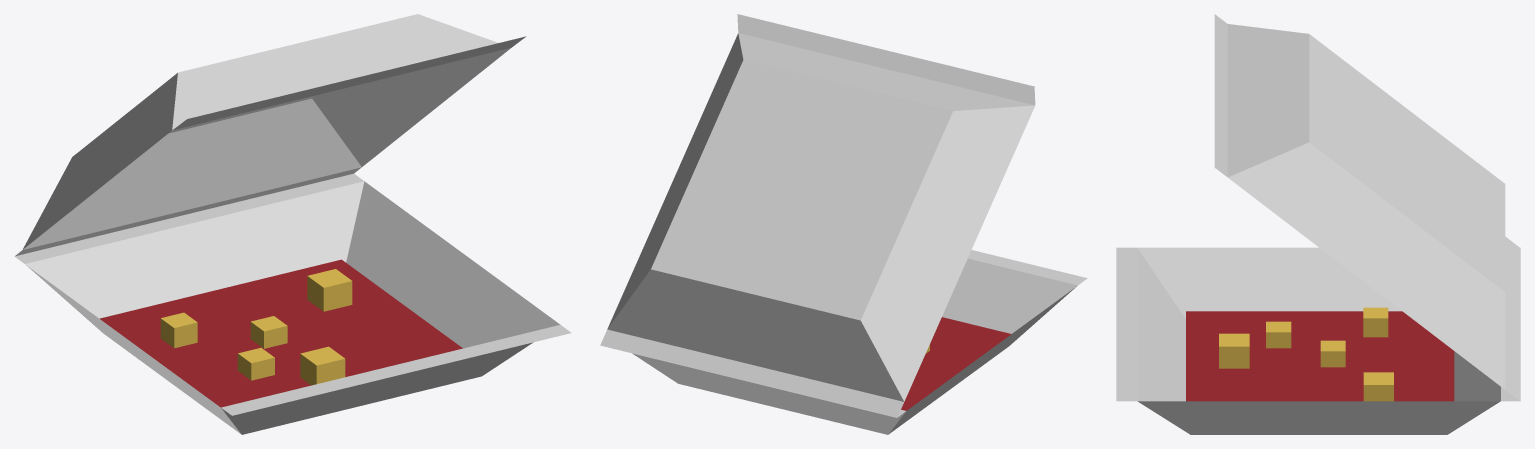
File: leftovers.fbx
The picture shows the model from 3 angles, left to right: view 1: azimuth 30°, elevation 25°; view 2: azimuth 150°, elevation 25°; view 3: azimuth 270°, elevation 25°; orthographic projection. The views are drawn at different scales.
Visible parts, largest first — view 1: Plane, Plane.001, Cube.003, Cube.004, Cube.001, Cube.002, Cube; view 2: Plane.001, Plane; view 3: Plane.001, Plane, Cube.004, Cube.003, Cube.001, Cube, Cube.002.
Boxes of the visible parts, bbox=[...] form: Plane: bbox=[14, 173, 571, 434]; Plane.001: bbox=[15, 14, 526, 256]; Cube.003: bbox=[307, 269, 352, 311]; Cube.004: bbox=[300, 346, 345, 385]; Cube.001: bbox=[160, 312, 197, 348]; Cube.002: bbox=[237, 347, 274, 380]; Cube: bbox=[250, 316, 287, 348]; Plane.001: bbox=[600, 14, 1035, 417]; Plane: bbox=[601, 250, 1087, 434]; Plane.001: bbox=[1214, 14, 1519, 400]; Plane: bbox=[1116, 247, 1520, 434]; Cube.004: bbox=[1219, 333, 1249, 368]; Cube.003: bbox=[1363, 372, 1393, 401]; Cube.001: bbox=[1363, 307, 1388, 337]; Cube: bbox=[1320, 340, 1345, 367]; Cube.002: bbox=[1266, 321, 1291, 348].
Bounding box in the file's own units: 132 × 115 × 144.
